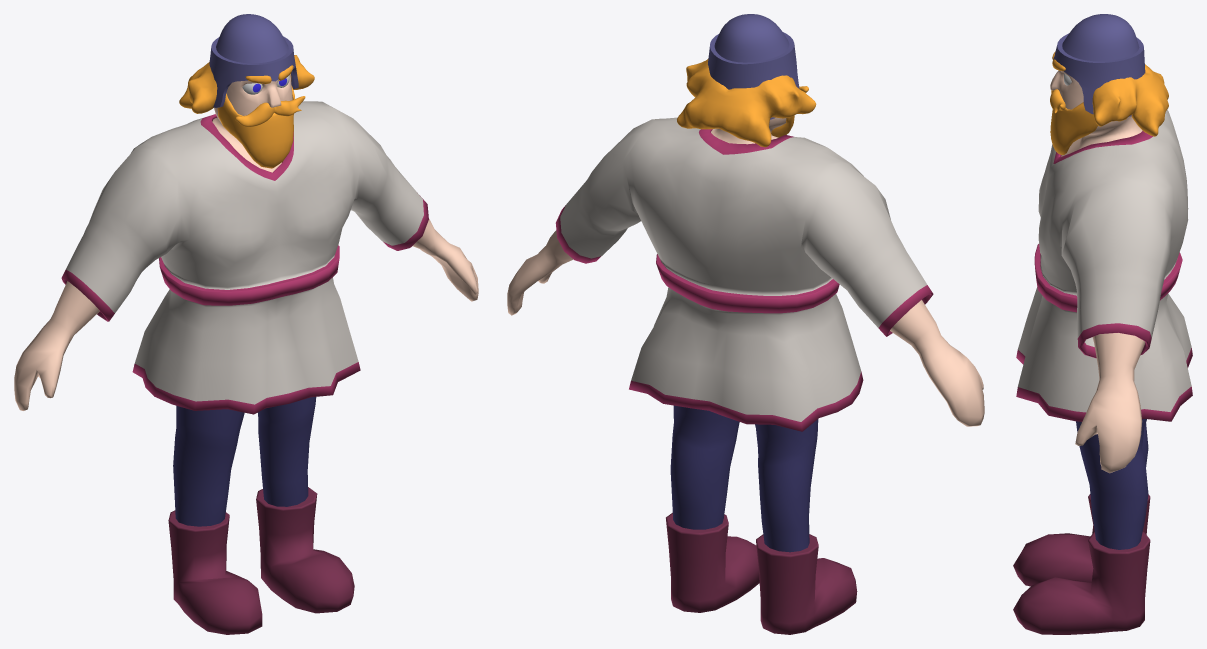
Rendered from Rus1-Workspace.glb.
3 renders of one model, left to right at view 1: azimuth 30°, elevation 25°; view 2: azimuth 150°, elevation 25°; view 3: azimuth 270°, elevation 25°, orthographic. The views are drawn at different scales.
Parts seen in each view (by area): view 1: Body.002, Body, Helmet, Beard, Hair, Moustache; view 2: Body.002, Body, Hair, Helmet; view 3: Body.002, Body, Helmet, Hair, Beard, Moustache.
Boxes of the visible parts, bbox=[...] form: Body.002: bbox=[61, 101, 428, 414]; Body: bbox=[14, 74, 478, 634]; Helmet: bbox=[209, 14, 298, 107]; Beard: bbox=[217, 86, 294, 168]; Hair: bbox=[179, 55, 314, 113]; Moustache: bbox=[235, 96, 305, 126]; Body.002: bbox=[555, 117, 933, 431]; Body: bbox=[507, 117, 984, 634]; Hair: bbox=[677, 59, 816, 147]; Helmet: bbox=[708, 14, 799, 119]; Body.002: bbox=[1016, 110, 1192, 421]; Body: bbox=[1013, 70, 1150, 634]; Helmet: bbox=[1053, 14, 1145, 116]; Hair: bbox=[1092, 64, 1168, 136]; Beard: bbox=[1050, 102, 1097, 154]; Moustache: bbox=[1050, 89, 1065, 113].
Bounding box in the file's own units: 4.14 × 4.95 × 1.39.
